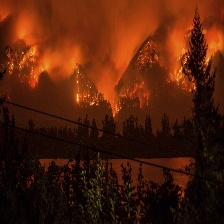fire: (9, 47, 42, 86), (167, 60, 203, 87), (75, 77, 102, 109)
smoke: (21, 3, 217, 62)
